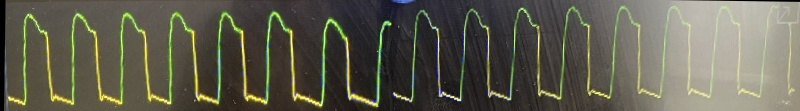normal_pressure: (0, 0, 778, 111)
